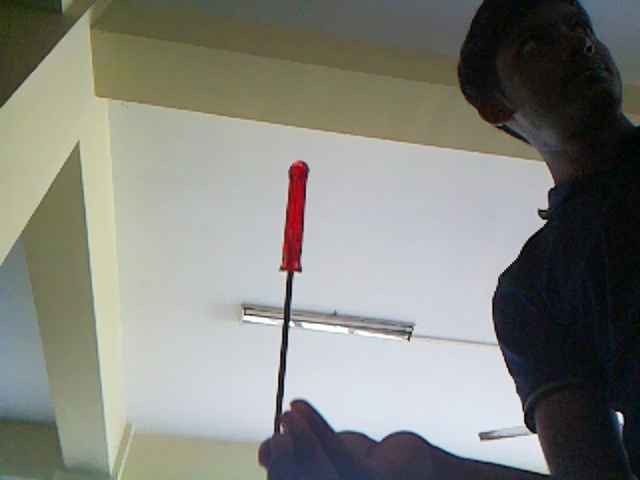redskrew: (261, 157, 312, 452)
